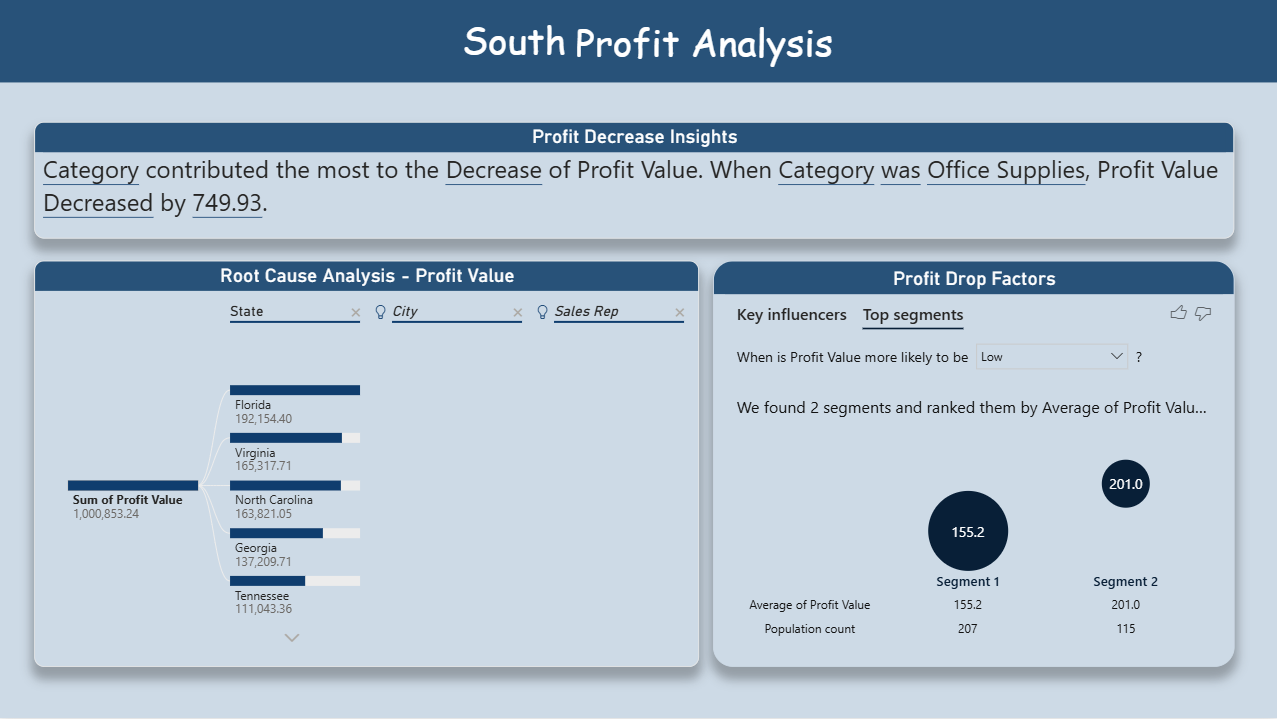

What the dashboard file says about the page in this screenshot:
{"tool":"powerbi","page":{"name":"Why?","canvas":[1280,720],"ordinal":5},"visuals":[{"type":"shape","box":[0,1.7,1280,83.3],"z":0},{"type":"decompositionTreeVisual","title":"Root Cause Analysis - Profit Value","fields":{"Analyze":["Sum(Orders_details.Profit Value)"],"ExplainBy":["Shipping.State","Shipping.City","Sales_Reps.Sales Rep"]},"box":[36.7,262,665,406.7],"z":2000},{"type":"cardVisual","fields":{"Data":["Min(Shipping.Region)"]},"box":[436.7,3.3,156.8,75.8],"z":3000,"group":"g1"},{"type":"keyDriversVisual","title":"Profit Drop Factors","fields":{"Target":["Orders_details.Profit Value"],"ExplainBy":["Customers.Customer Type","Products.Category","Shipping.City","Sales_Reps.Sales Rep","Shipping.State"]},"box":[715,262,521.7,406.7],"z":3000},{"type":"textbox","title":"Profit Decrease Insights","box":[36.7,123.3,1200,116.7],"z":4000},{"type":"textbox","box":[572.4,13.9,271.7,70],"z":4002,"group":"g1"},{"type":"group","id":"g1","title":"Group 1","box":[436.7,3.3,406.7,81.7],"z":5000}]}

Visuals, with their boxes in screenshot pixels (x1, y1, x2, y2), scaled from the page's 1280x720 canvas onto the 1277x719 screenshot:
shape: (0, 2, 1276, 85)
"Root Cause Analysis - Profit Value" decompositionTreeVisual: (37, 262, 700, 668)
cardVisual - Min(Shipping.Region): (436, 3, 592, 79)
"Profit Drop Factors" keyDriversVisual: (713, 262, 1234, 668)
"Profit Decrease Insights" textbox: (37, 123, 1234, 240)
textbox: (571, 14, 842, 84)
"Group 1" group: (436, 3, 841, 85)
